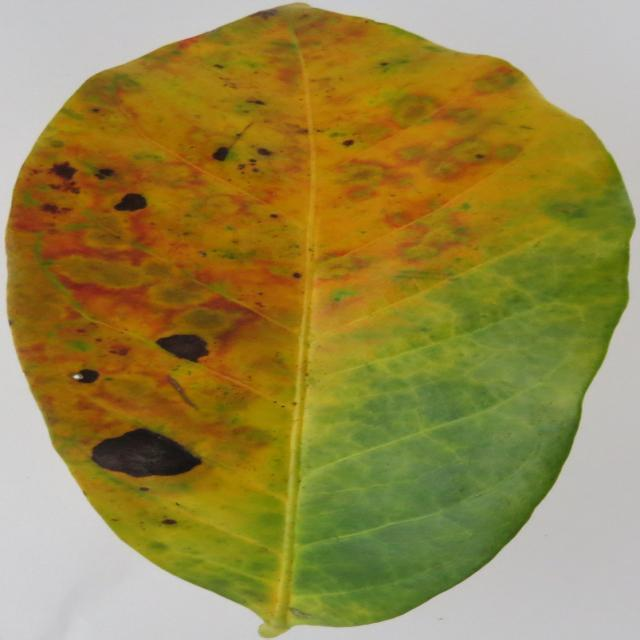DeficienciaNutricional-Fosforo: (7, 4, 633, 637)
